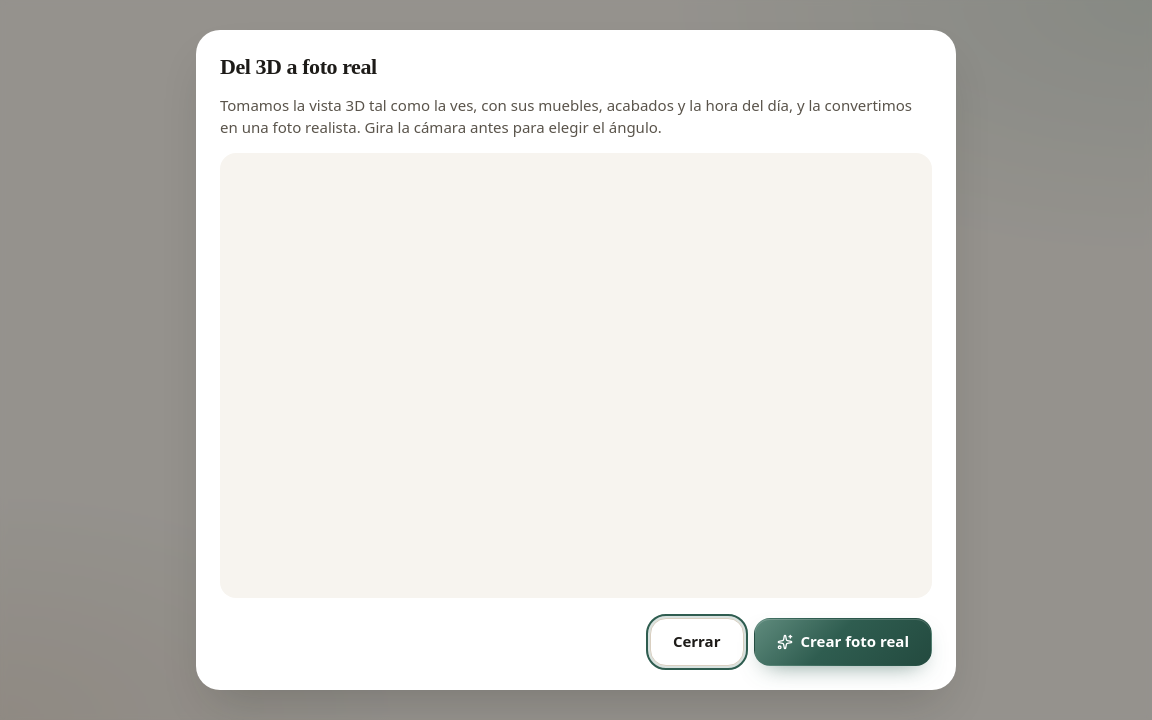
Test: PhotoRenderDialog › tells the user when the photo could not be made
Step 1. Click the button "Crear foto real" → point(843, 642), box [754,618,932,666]
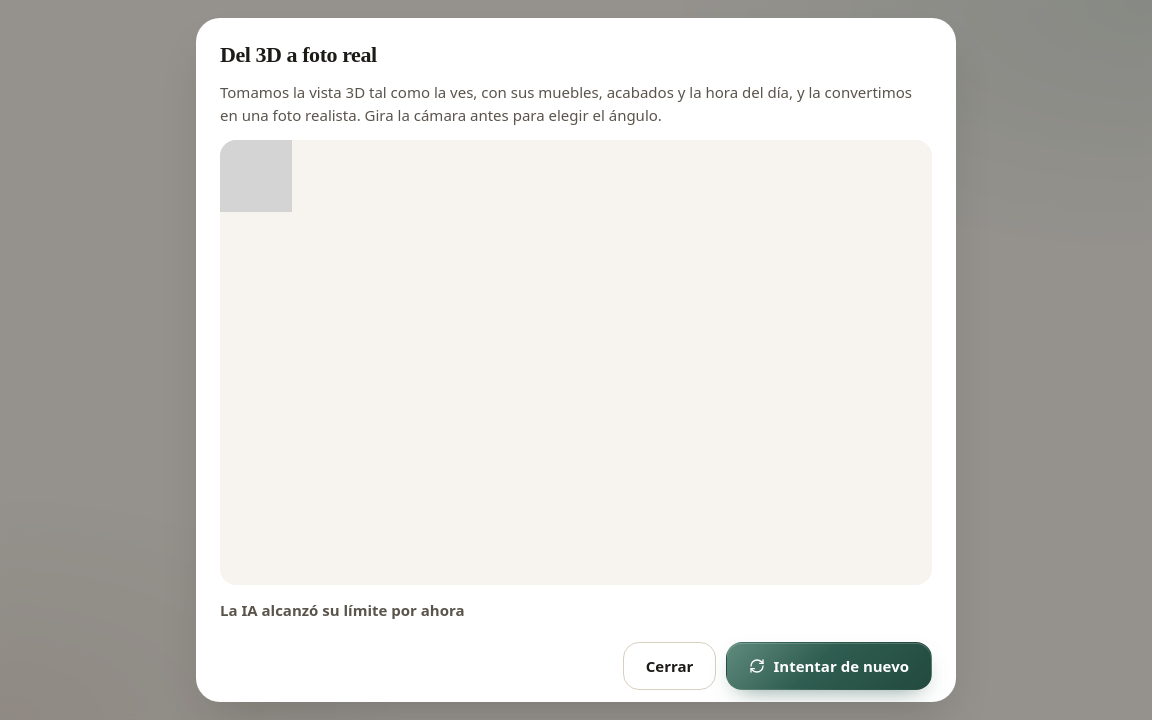
Check: the message shows "límite", box [220,600,464,620]
Check: the button "Intentar de nuevo" is shown, box [726,642,932,690]
